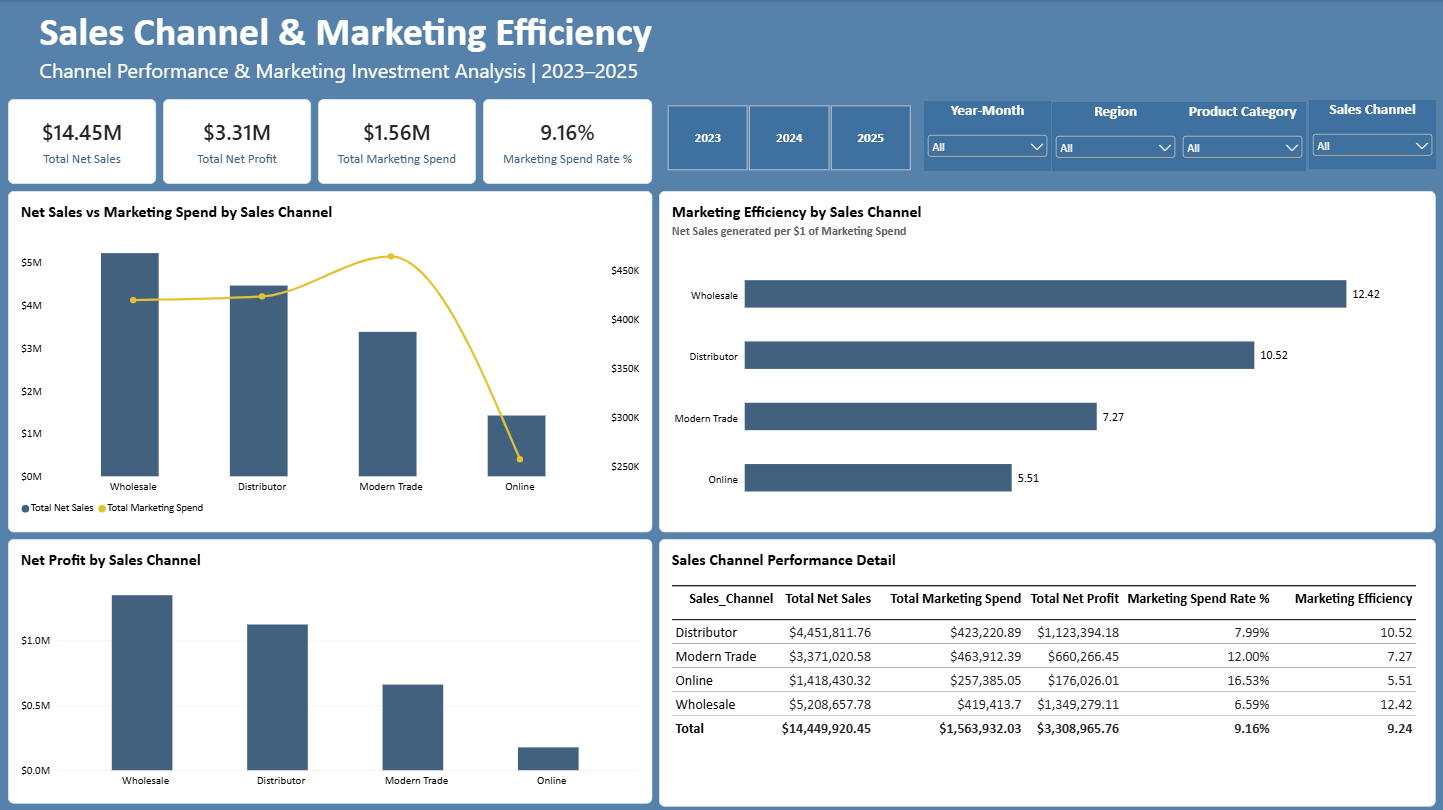

What the dashboard file says about the page in this screenshot:
{"tool":"powerbi","page":{"name":"Sales Channel & Marketing Efficiency","canvas":[1920,1080],"ordinal":3},"visuals":[{"type":"textbox","box":[10.6,9.3,1900.6,113.1],"z":0},{"type":"slicer","title":"Year-Month","fields":{"Values":["Calendar Table.Year-Month"]},"box":[1228.8,134.4,169.2,93.3],"z":0,"group":"g1"},{"type":"group","id":"g1","title":"Group 2","box":[866.9,133,1042.8,95.8],"z":1000},{"type":"slicer","fields":{"Values":["Calendar Table.Year"]},"box":[866.9,138.3,363.1,90.4],"z":1000,"group":"g1"},{"type":"card","fields":{"Values":["Measure Table.Total Net Sales"]},"box":[10.6,131.7,197,113],"z":2000},{"type":"slicer","title":"Region","fields":{"Values":["Working_01.Region"]},"box":[1398.5,135.9,169.2,92.3],"z":2000,"group":"g1"},{"type":"card","fields":{"Values":["Measure Table.Total Net Profit"]},"box":[216.8,131.7,197,113],"z":3000},{"type":"slicer","title":"Product Category","fields":{"Values":["Working_01.Product_Category"]},"box":[1568.2,135.9,169.2,92.3],"z":3000,"group":"g1"},{"type":"card","fields":{"Values":["Measure Table.Total Marketing Spend"]},"box":[423,131.7,210,113.1],"z":4000},{"type":"slicer","title":"Sales Channel","fields":{"Values":["Working_01.Sales_Channel"]},"box":[1740.5,133,169.2,92.3],"z":4000,"group":"g1"},{"type":"card","fields":{"Values":["Measure Table.Marketing Spend Rate %"]},"box":[642.4,131.7,224.8,113.1],"z":5000},{"type":"lineClusteredColumnComboChart","title":"Net Sales vs Marketing Spend by Sales Channel","fields":{"Category":["Working_01.Sales_Channel"],"Y":["Measure Table.Total Net Sales"],"Y2":["Measure Table.Total Marketing Spend"]},"box":[10.7,253.6,857.4,453.5],"z":6000},{"type":"columnChart","title":"Net Profit by Sales Channel","fields":{"Category":["Working_01.Sales_Channel"],"Y":["Measure Table.Total Net Profit"]},"box":[10.7,716.5,857.4,351.5],"z":7000},{"type":"clusteredBarChart","title":"Marketing Efficiency by Sales Channel","fields":{"Category":["Working_01.Sales_Channel"],"Y":["Measure Table.Marketing Efficiency"]},"box":[876.1,253.6,1033.1,453.5],"z":8000},{"type":"pivotTable","title":"Sales Channel Performance Detail","fields":{"Rows":["Working_01.Sales_Channel"],"Values":["Measure Table.Total Net Sales","Measure Table.Total Marketing Spend","Measure Table.Total Net Profit","Measure Table.Marketing Spend Rate %","Measure Table.Marketing Efficiency"]},"box":[876.1,716.5,1033.1,355.6],"z":9000}]}

Visuals, with their boxes in screenshot pixels (x1, y1, x2, y2), scaled from the page's 1920x1080 canvas onto the 1443x810 screenshot:
textbox: {"left": 8, "top": 7, "right": 1436, "bottom": 92}
"Year-Month" slicer: {"left": 924, "top": 101, "right": 1051, "bottom": 171}
"Group 2" group: {"left": 652, "top": 100, "right": 1435, "bottom": 172}
slicer - Calendar Table.Year: {"left": 652, "top": 104, "right": 924, "bottom": 172}
card - Measure Table.Total Net Sales: {"left": 8, "top": 99, "right": 156, "bottom": 184}
"Region" slicer: {"left": 1051, "top": 102, "right": 1178, "bottom": 171}
card - Measure Table.Total Net Profit: {"left": 163, "top": 99, "right": 311, "bottom": 184}
"Product Category" slicer: {"left": 1179, "top": 102, "right": 1306, "bottom": 171}
card - Measure Table.Total Marketing Spend: {"left": 318, "top": 99, "right": 476, "bottom": 184}
"Sales Channel" slicer: {"left": 1308, "top": 100, "right": 1435, "bottom": 169}
card - Measure Table.Marketing Spend Rate %: {"left": 483, "top": 99, "right": 652, "bottom": 184}
"Net Sales vs Marketing Spend by Sales Channel" lineClusteredColumnComboChart: {"left": 8, "top": 190, "right": 652, "bottom": 530}
"Net Profit by Sales Channel" columnChart: {"left": 8, "top": 537, "right": 652, "bottom": 801}
"Marketing Efficiency by Sales Channel" clusteredBarChart: {"left": 658, "top": 190, "right": 1435, "bottom": 530}
"Sales Channel Performance Detail" pivotTable: {"left": 658, "top": 537, "right": 1435, "bottom": 804}
